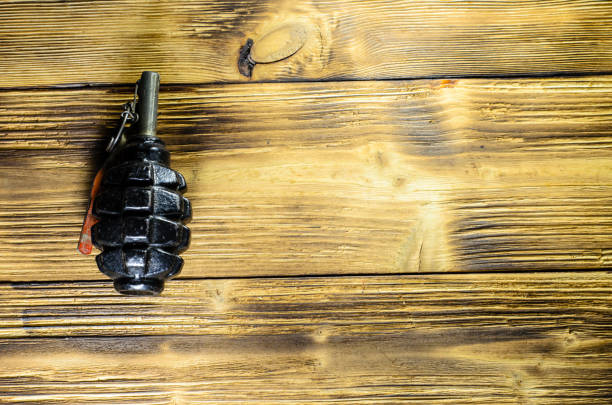e1: (78, 71, 193, 302)
